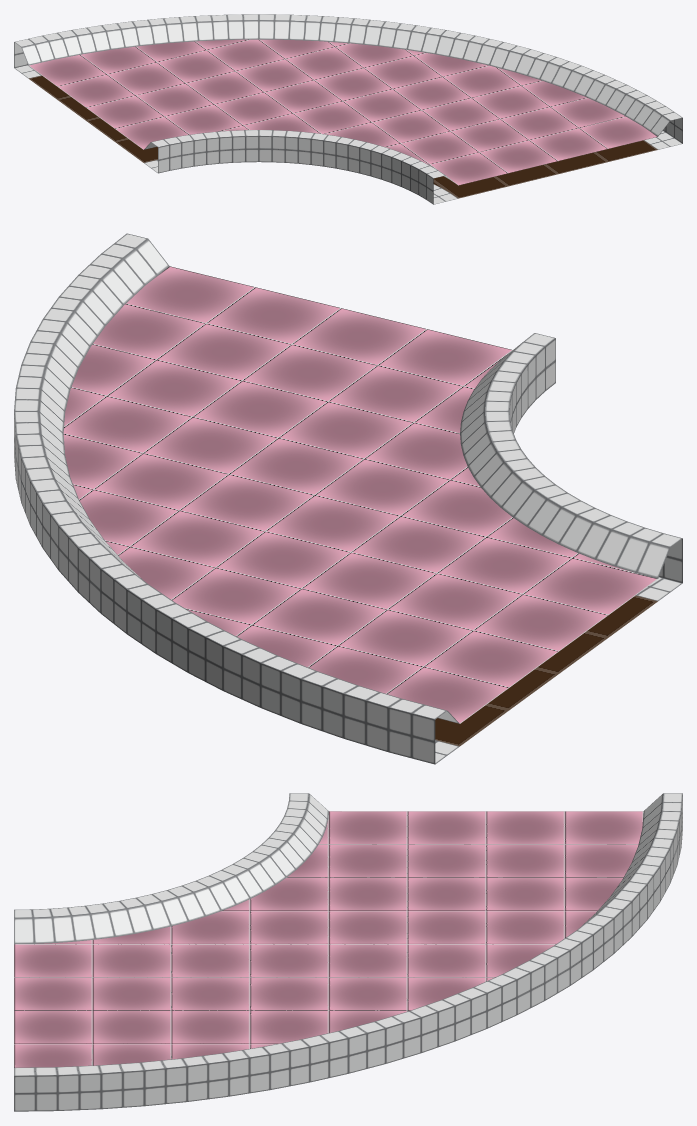
File: GravitationalismCurve3.obj
3 views of the same model, one above another, from view 1: azimuth 30°, elevation 25°; view 2: azimuth 150°, elevation 25°; view 3: azimuth 270°, elevation 25° (orthographic). The views are drawn at different scales.
Parts seen in each view (by area): view 1: GravitationalismCurve3; view 2: GravitationalismCurve3; view 3: GravitationalismCurve3.
Part boxes in pixels (left/top/right/bottom): GravitationalismCurve3: left=14, top=14, right=682, bottom=204; GravitationalismCurve3: left=14, top=233, right=682, bottom=764; GravitationalismCurve3: left=14, top=793, right=682, bottom=1111.
Bounding box in the file's own units: 17 × 1 × 17.
